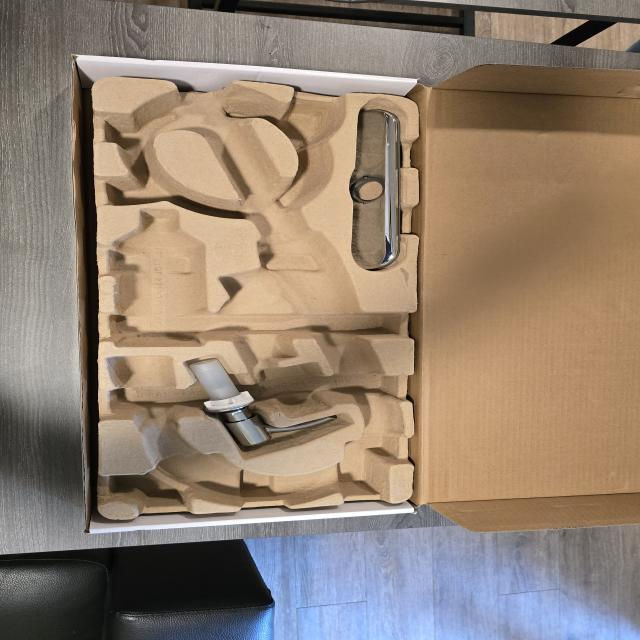1m: (106, 80, 398, 504)
2: (187, 360, 341, 449)
3m: (115, 207, 201, 347)
4: (347, 110, 400, 271)
5m: (282, 99, 343, 145)
6m: (108, 99, 181, 146)
7m: (103, 159, 196, 205)
